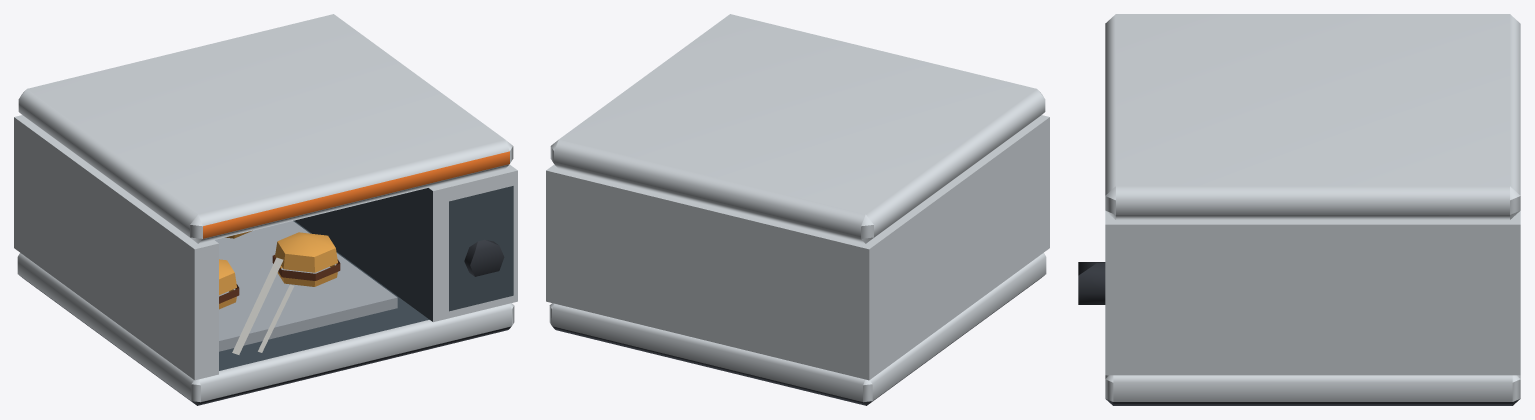
Rendered from Calentador.fbx.
3 views of the same model, side by side, from view 1: azimuth 30°, elevation 25°; view 2: azimuth 150°, elevation 25°; view 3: azimuth 270°, elevation 25° (orthographic). The views are drawn at different scales.
Visible parts, largest first — view 1: Calentador; view 2: Calentador; view 3: Calentador.
Part boxes in pixels (box(x1,y1,x2,y2)): Calentador: box(14, 14, 517, 405); Calentador: box(546, 14, 1049, 405); Calentador: box(1078, 14, 1520, 405).
Size of the model in its own units: 1.6 by 0.9 by 1.65.
Materials: 1 (1 with a texture image).
